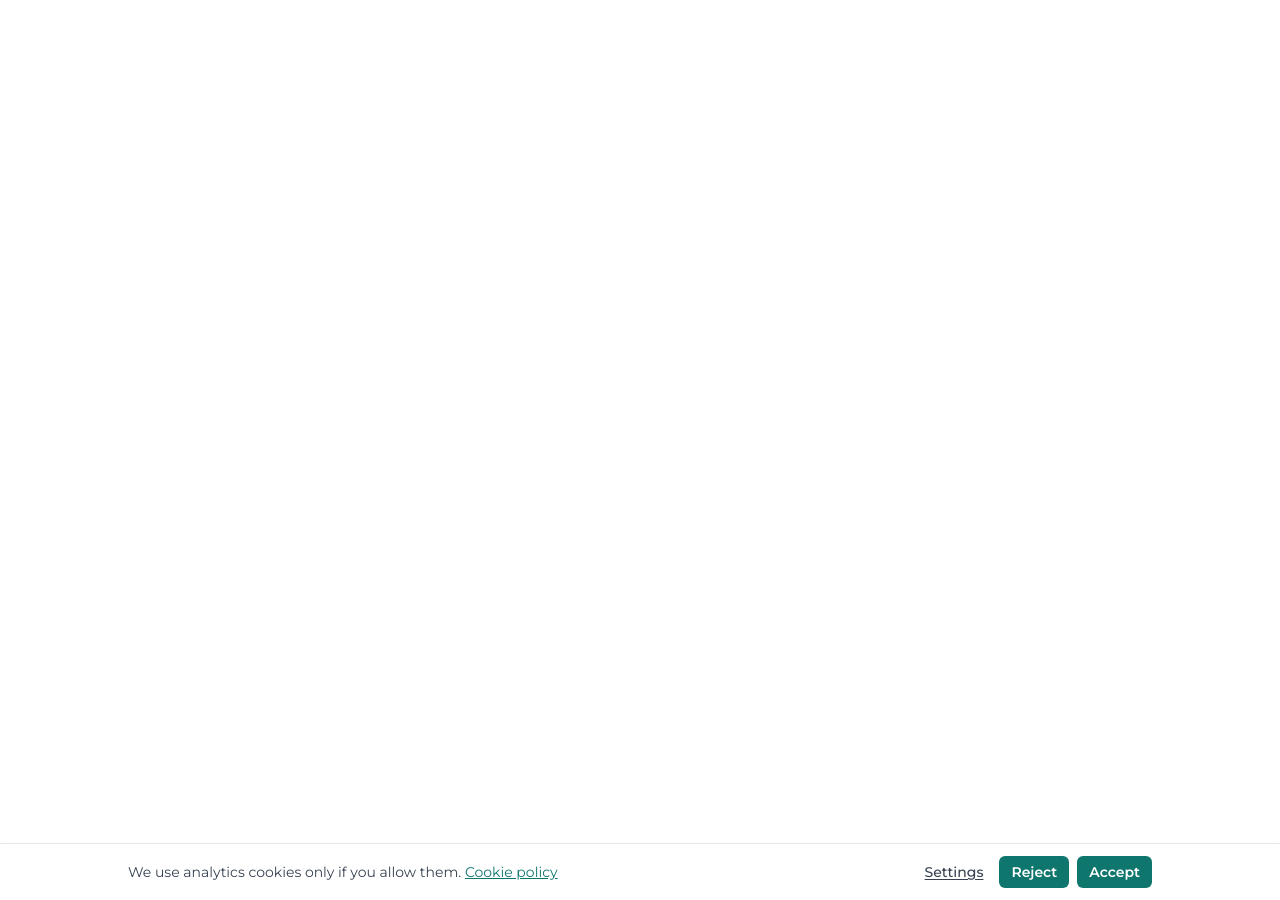
Test: Privacy choices panel › does not pre-tick analytics from the banner's Settings in consent regions
The width and height of the screenshot is (1280, 900).
Click the button "Settings": (954, 872) [917,856,991,888]
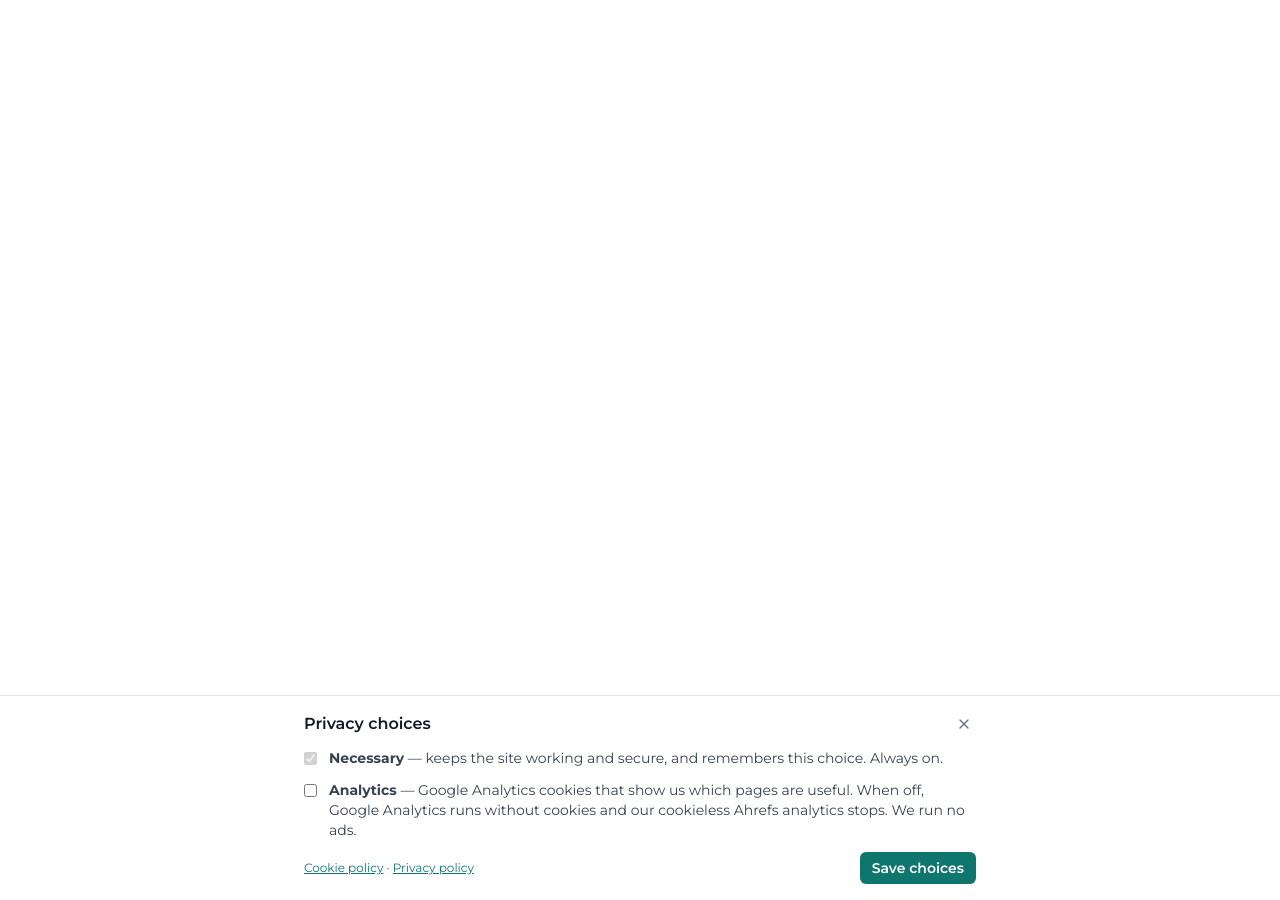
Check: the checkbox labelled "Analytics" is not checked, box [304,784,317,797]
